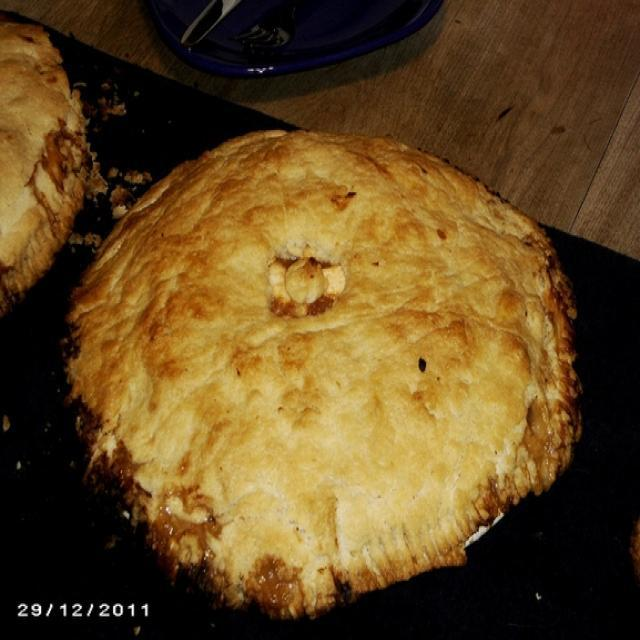Apple: (74, 133, 583, 618)
